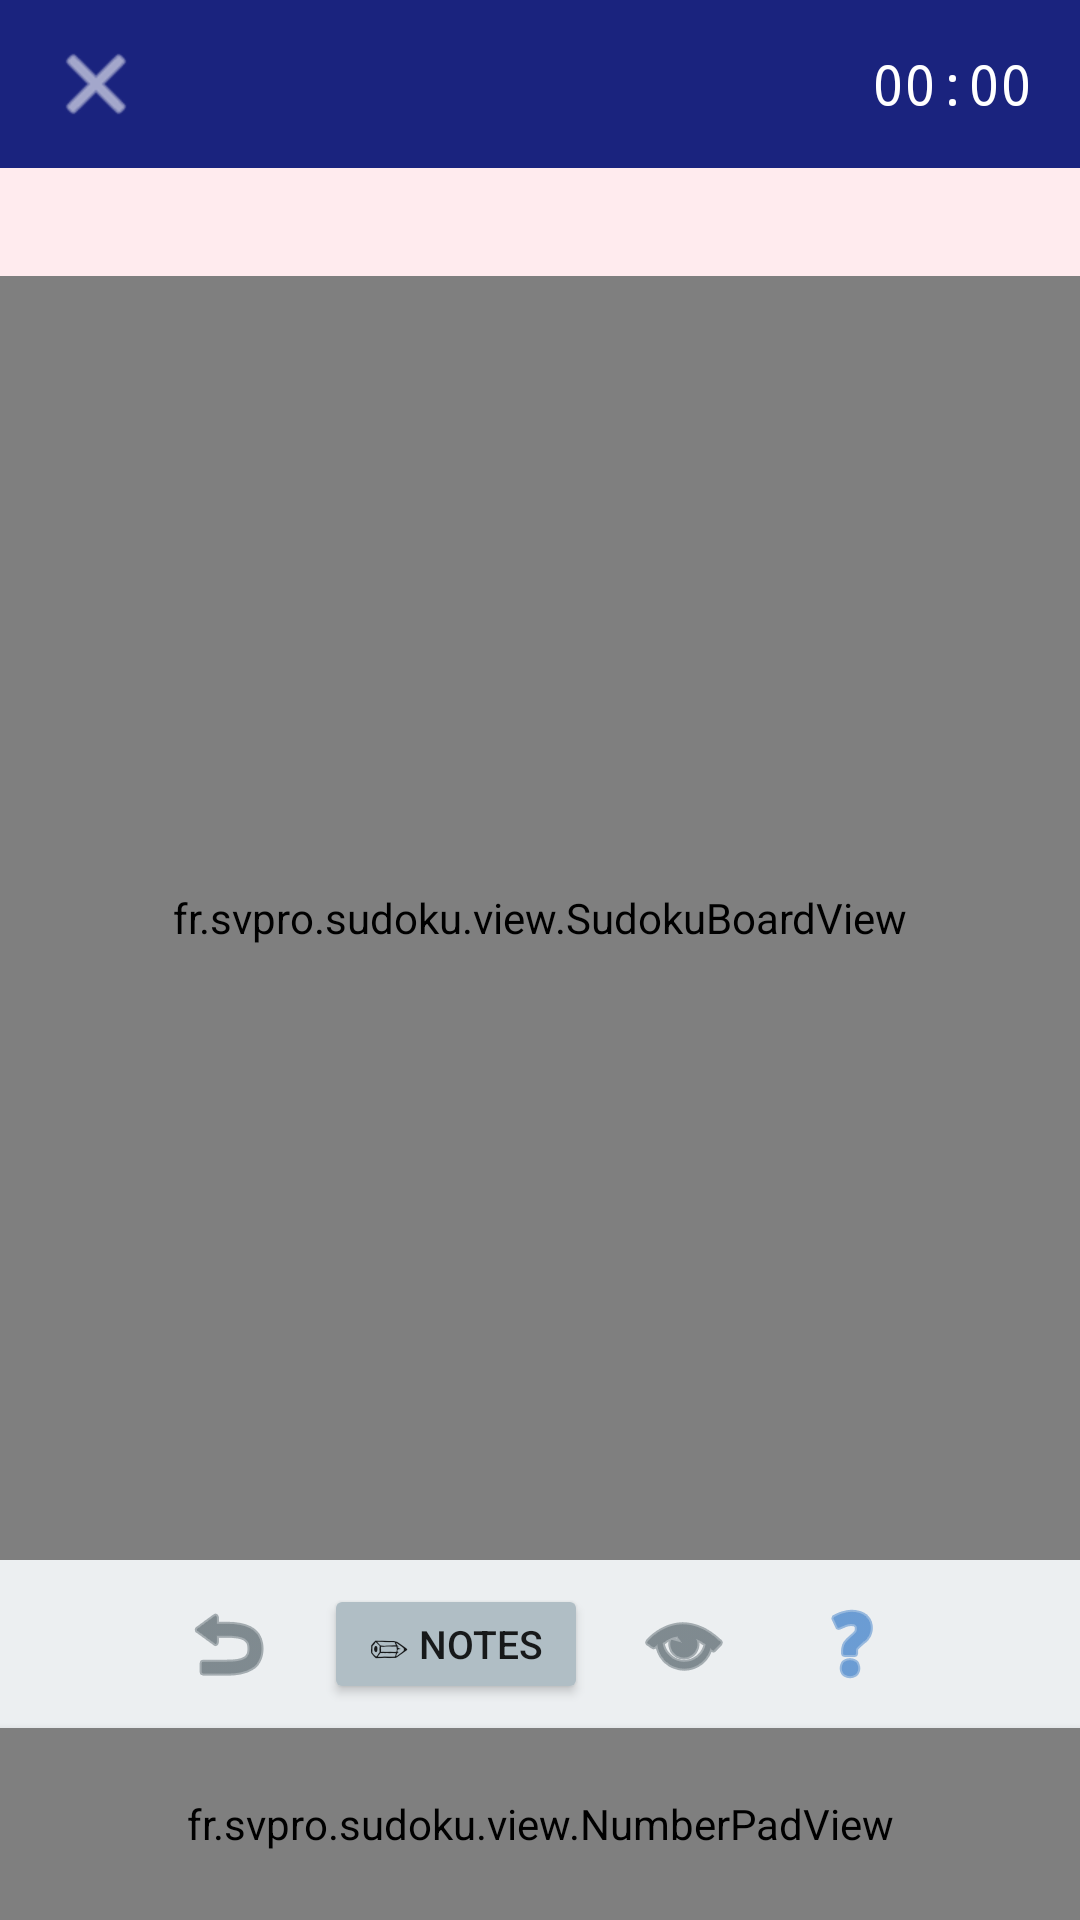

Point at icon controls on the screen. Image size 1080 × 1920, points as (x=x, y=y).
Annuler: (x=229, y=1644)
close clear cancel: (x=96, y=84)
Indice: (x=852, y=1644)
Vérifier: (x=684, y=1646)
